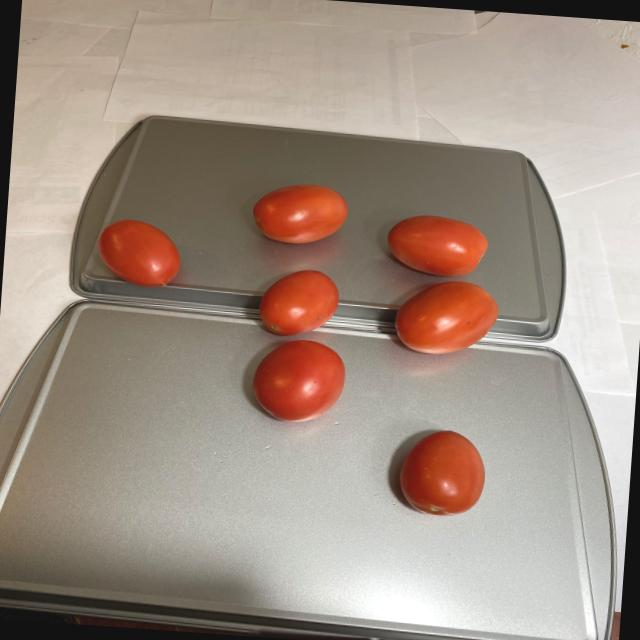tomato: (76, 169, 506, 522)
